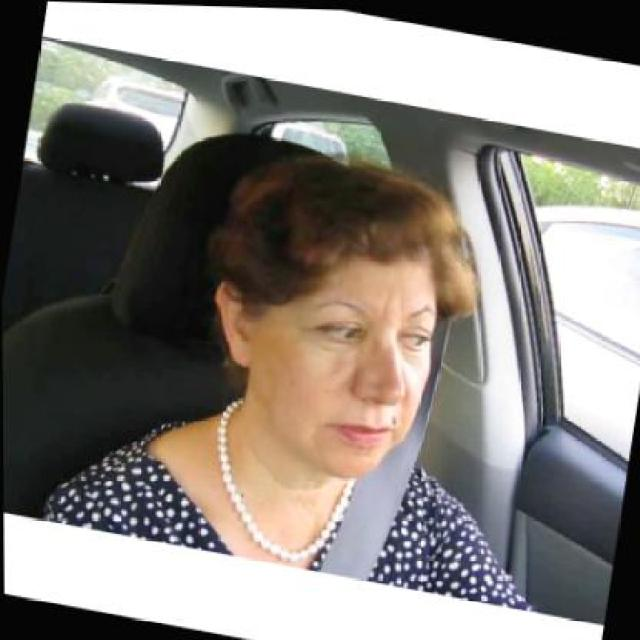attentif: (188, 132, 460, 490)
